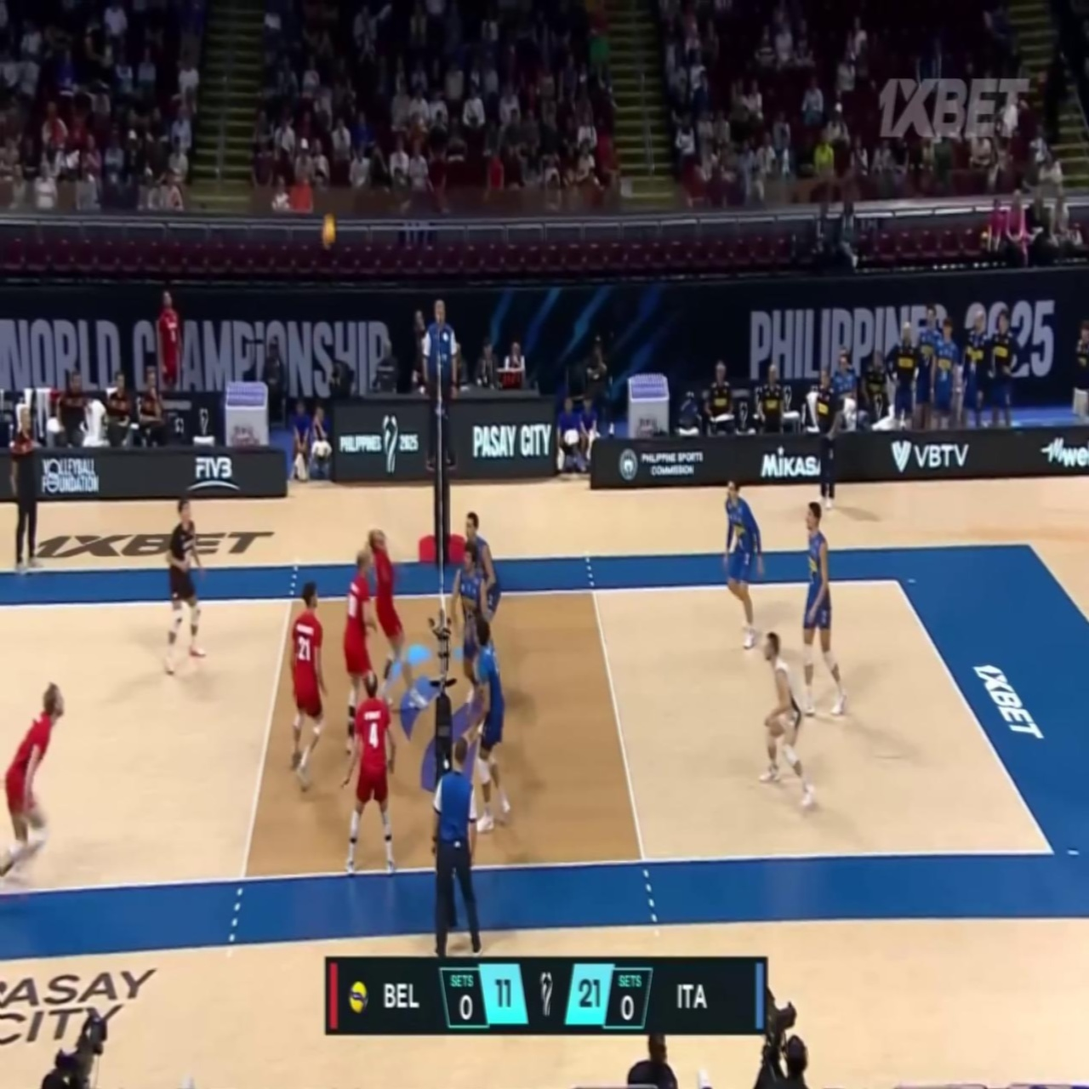ball: (320, 213, 335, 250)
